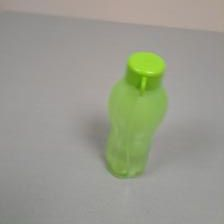bottle: (97, 50, 170, 178)
